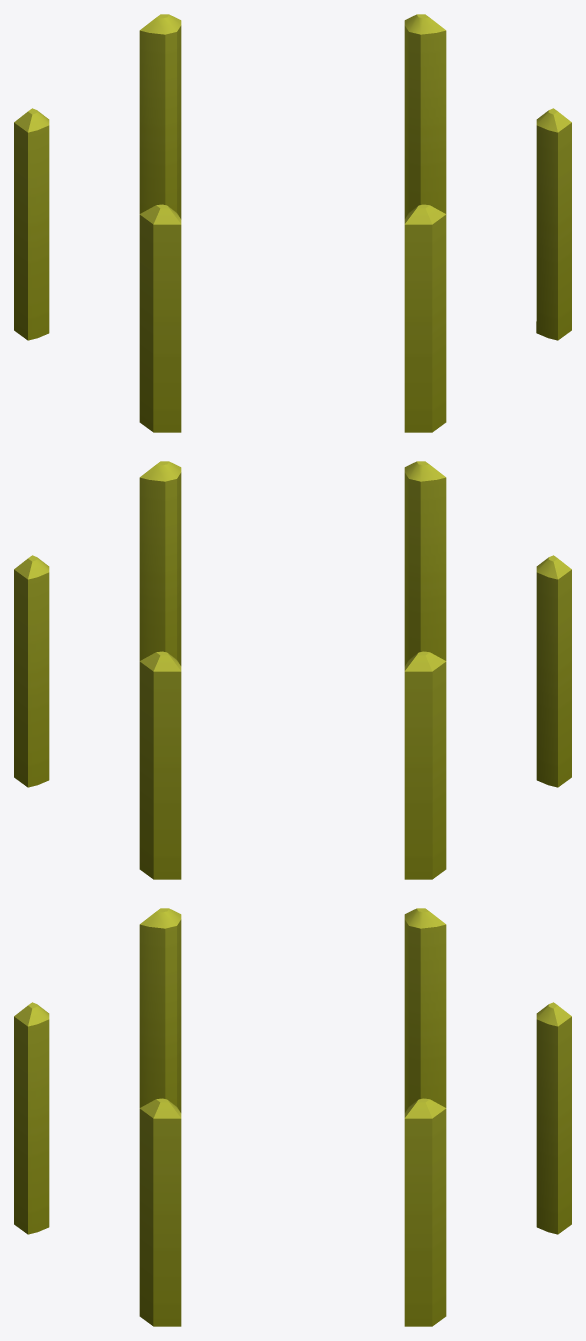
File: kaykit-medieval-hexagon-pack-hex-river-l-waterless.glb
3 views of the same model, one above another, from view 1: azimuth 30°, elevation 25°; view 2: azimuth 150°, elevation 25°; view 3: azimuth 270°, elevation 25° (orthographic).
Visible parts, largest first — view 1: hex_river_L_waterless; view 2: hex_river_L_waterless; view 3: hex_river_L_waterless.
Boxes of the visible parts, x1,y1,x2,y2 form: hex_river_L_waterless: (14, 14, 571, 432); hex_river_L_waterless: (14, 461, 571, 879); hex_river_L_waterless: (14, 908, 571, 1326).
Bounding box in the file's own units: 2 × 1 × 2.31.
Materials: 1 (1 with a texture image).
